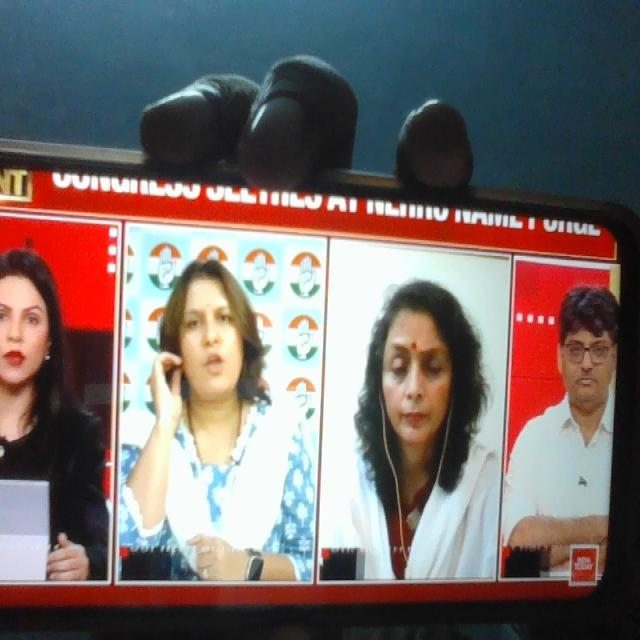fake: (363, 269, 474, 480)
